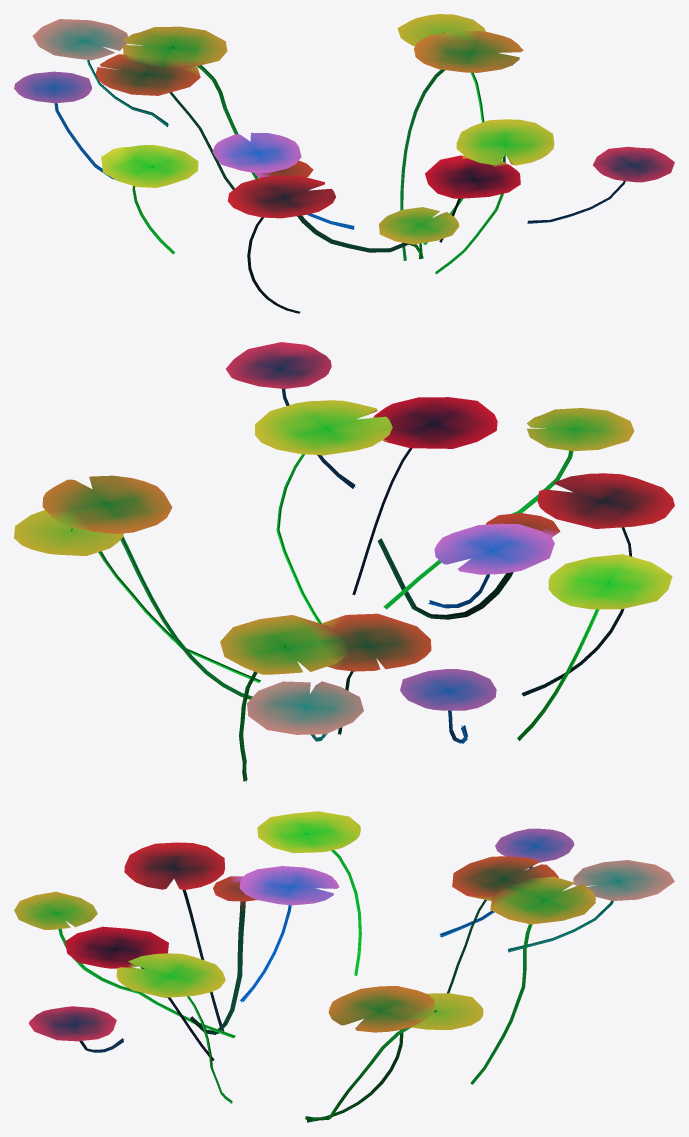
File: Rembrandt_Water_Lily_uc2kajgia_High_uc2kajgia_VarD_LOD0.fbx
The picture shows the model from 3 angles, top to bottom: view 1: azimuth 30°, elevation 25°; view 2: azimuth 150°, elevation 25°; view 3: azimuth 270°, elevation 25°; orthographic projection. The views are drawn at different scales.
Visible parts, largest first — view 1: _4596_VarD_LOD0; view 2: _4596_VarD_LOD0; view 3: _4596_VarD_LOD0.
Boxes of the visible parts, bbox=[...] form: _4596_VarD_LOD0: bbox=[14, 14, 674, 313]; _4596_VarD_LOD0: bbox=[14, 342, 674, 782]; _4596_VarD_LOD0: bbox=[14, 811, 674, 1122].
Bounding box in the file's own units: 128 × 44.19 × 160.
